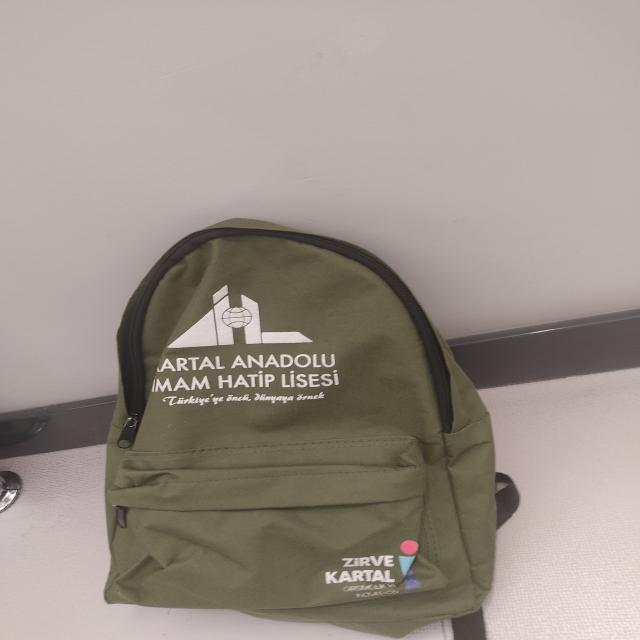bag: (105, 217, 508, 630)
